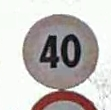limite 40: (22, 13, 98, 91)
